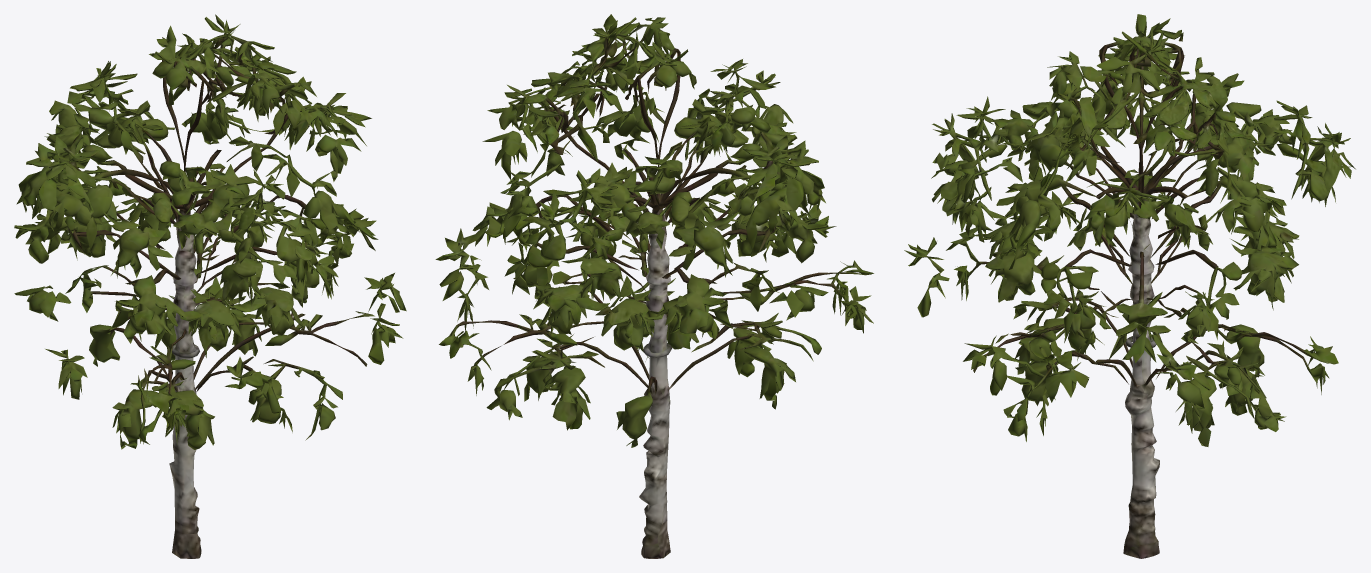
The model's file is tree_birch_hd-BlrAvlxV.glb.
3 renders of one model, left to right at view 1: azimuth 30°, elevation 25°; view 2: azimuth 150°, elevation 25°; view 3: azimuth 270°, elevation 25°, orthographic. The views are drawn at different scales.
Parts seen in each view (by area): view 1: tripo_node_86446280-1995-40aa-a60b-7d21cfb7429f; view 2: tripo_node_86446280-1995-40aa-a60b-7d21cfb7429f; view 3: tripo_node_86446280-1995-40aa-a60b-7d21cfb7429f.
Part boxes in pixels (x1,y1,x2,y2): tripo_node_86446280-1995-40aa-a60b-7d21cfb7429f: [14, 14, 406, 558]; tripo_node_86446280-1995-40aa-a60b-7d21cfb7429f: [435, 14, 873, 558]; tripo_node_86446280-1995-40aa-a60b-7d21cfb7429f: [904, 14, 1355, 558].
Bounding box in the file's own units: 0.7327 × 0.9988 × 0.7556.
1 material, 1 textured.
